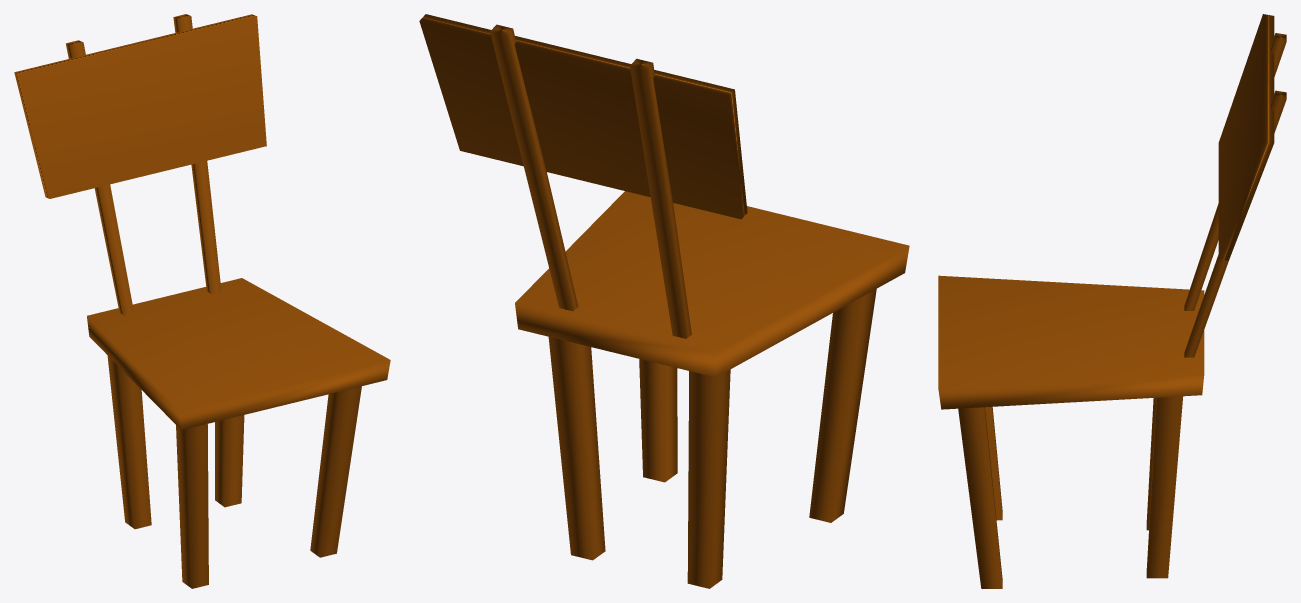
The model's file is silla.FBX.
The picture shows the model from 3 angles, left to right: view 1: azimuth 30°, elevation 25°; view 2: azimuth 150°, elevation 25°; view 3: azimuth 270°, elevation 25°; orthographic projection. The views are drawn at different scales.
Parts seen in each view (by area): view 1: silla_geo; view 2: silla_geo; view 3: silla_geo.
Boxes of the visible parts, x1,y1,x2,y2 form: silla_geo: (14, 14, 390, 588); silla_geo: (419, 14, 909, 588); silla_geo: (938, 14, 1286, 588).
Size of the model in its own units: 56.83 by 101 by 65.67.
